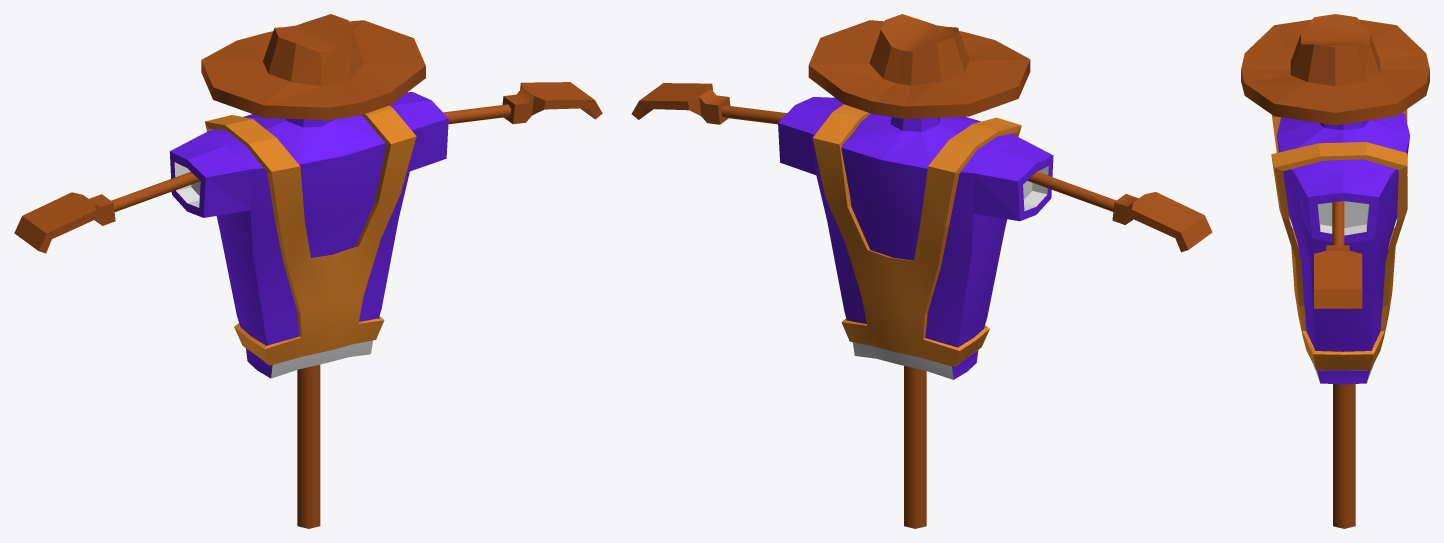
File: scarecrow_1.FBX
3 views of the same model, side by side, from view 1: azimuth 30°, elevation 25°; view 2: azimuth 150°, elevation 25°; view 3: azimuth 270°, elevation 25° (orthographic).
Visible parts, largest first — view 1: scarecrow_1; view 2: scarecrow_1; view 3: scarecrow_1.
Part boxes in pixels (bbox=[...]): scarecrow_1: bbox=[14, 14, 602, 528]; scarecrow_1: bbox=[631, 14, 1212, 528]; scarecrow_1: bbox=[1241, 14, 1429, 528].
Bounding box in the file's own units: 3.05 × 2.57 × 0.8939.
Materials: 1 (1 with a texture image).
